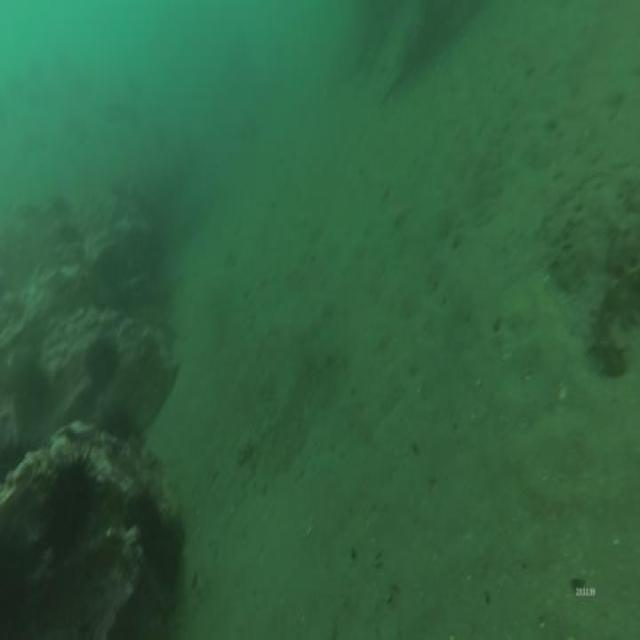echinus: (45, 439, 103, 544), (10, 351, 50, 426), (82, 335, 121, 392)
holothurian: (586, 270, 638, 376)
